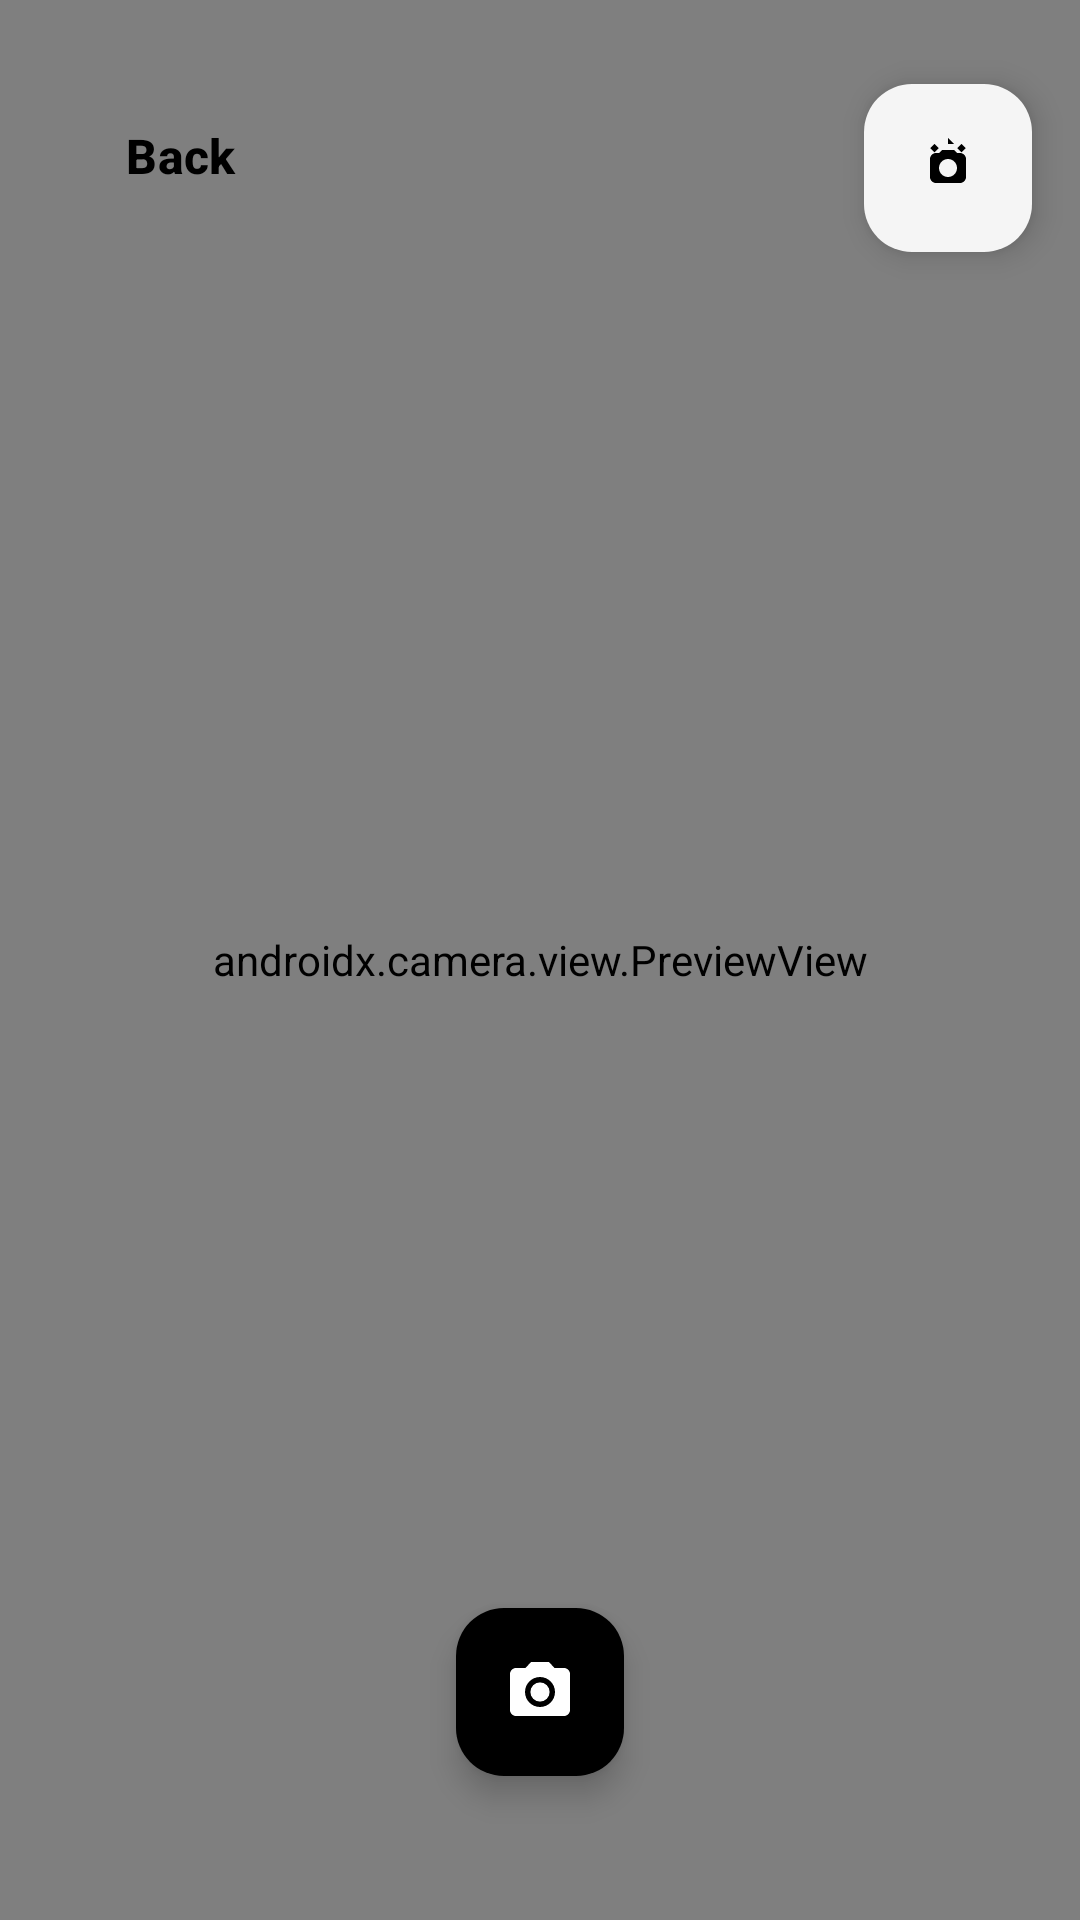

Icon click points for this 1080px×1920px phone screenshot, format (x=x, y=y):
Capture Photo: (x=540, y=1692)
